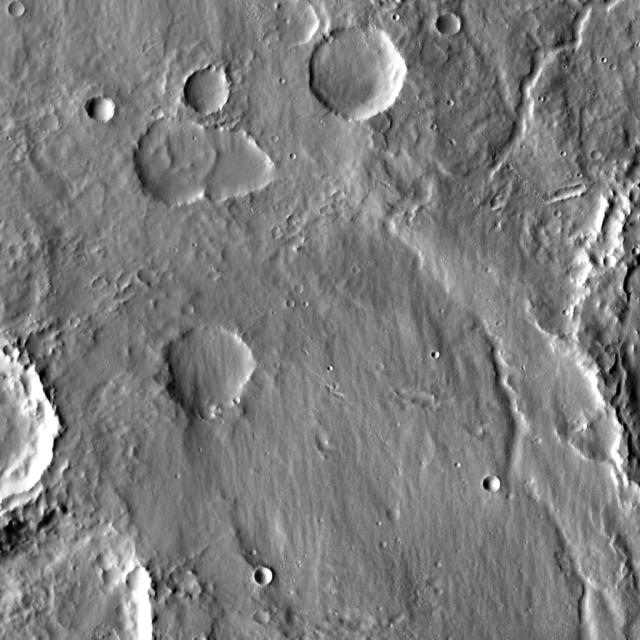crater: (311, 26, 407, 120), (164, 326, 254, 414), (132, 119, 220, 206), (191, 126, 271, 203), (272, 0, 321, 47), (185, 69, 232, 115), (172, 570, 202, 600), (88, 96, 116, 123), (128, 570, 154, 594), (438, 13, 462, 36), (256, 566, 275, 586), (141, 268, 160, 288), (100, 552, 118, 570), (11, 1, 28, 18), (106, 569, 122, 586), (485, 477, 502, 492), (118, 275, 134, 289), (389, 508, 403, 522), (94, 278, 108, 291), (257, 614, 271, 626), (154, 108, 166, 120), (606, 256, 618, 268), (471, 425, 483, 437), (290, 213, 302, 224), (205, 584, 216, 594), (186, 308, 196, 318), (432, 352, 442, 362), (274, 228, 284, 238), (594, 151, 604, 160), (296, 285, 306, 294), (289, 300, 298, 309), (607, 346, 616, 355), (378, 363, 386, 371), (348, 259, 356, 267), (244, 542, 252, 550), (388, 7, 396, 14), (628, 243, 634, 251), (502, 488, 510, 494), (267, 130, 274, 136), (550, 205, 557, 211), (559, 302, 566, 308), (286, 146, 292, 152), (444, 94, 450, 100), (376, 536, 382, 542)
